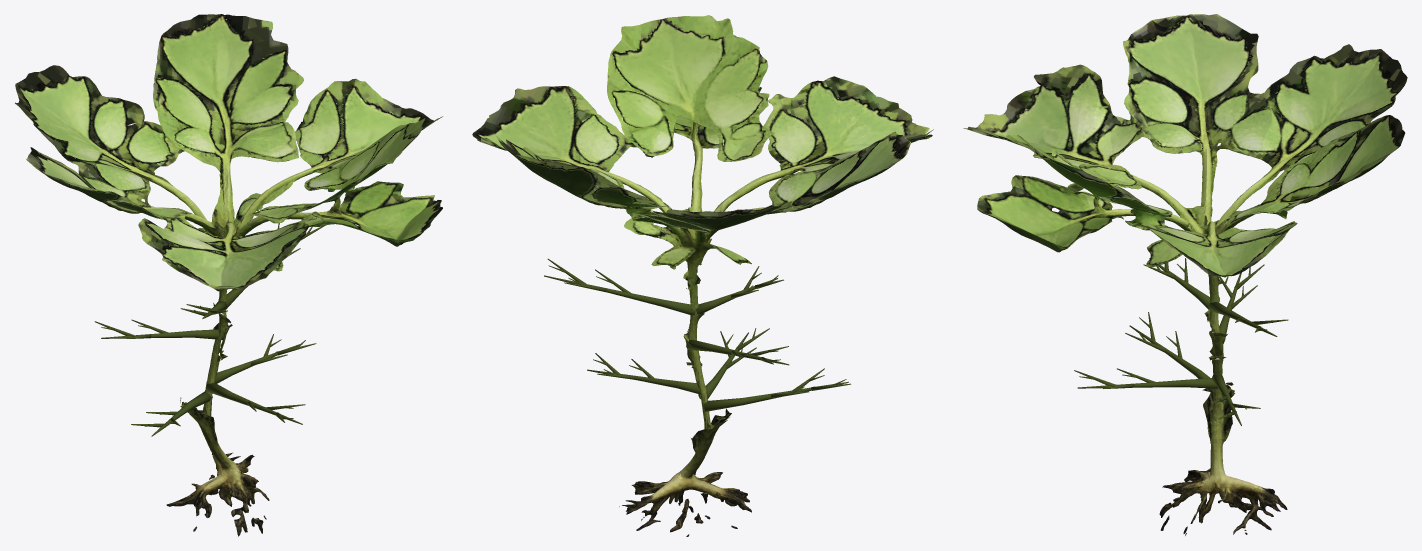
3 renders of one model, left to right at view 1: azimuth 30°, elevation 25°; view 2: azimuth 150°, elevation 25°; view 3: azimuth 270°, elevation 25°, orthographic.
Visible parts, largest first — view 1: world, branch2, branch5; view 2: world, branch0, branch4, branch3, branch2; view 3: world, branch5.
Boxes of the visible parts, x1,y1,x2,y2 form: world: (15, 14, 442, 536); branch2: (101, 329, 223, 339); branch5: (206, 383, 302, 424); world: (472, 15, 933, 536); branch0: (544, 275, 695, 315); branch4: (703, 381, 848, 411); branch3: (587, 369, 700, 394); branch2: (686, 339, 789, 365); world: (963, 14, 1407, 535); branch5: (1077, 378, 1217, 388).
Size of the model in its own units: 0.9787 by 0.965 by 0.9081.
Materials: 2 (1 with a texture image).
